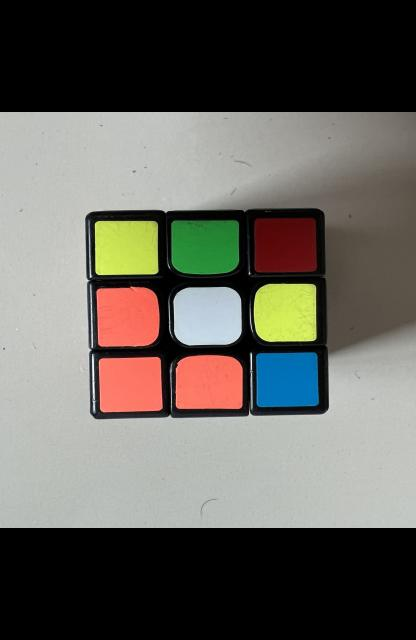Blue: (256, 352, 318, 408)
Green: (170, 220, 238, 274)
Orange: (96, 286, 158, 347), (174, 355, 242, 409), (98, 357, 162, 412)
Red: (253, 218, 316, 272)
White: (172, 286, 240, 346)
Yellow: (253, 283, 316, 342), (94, 220, 158, 276)
